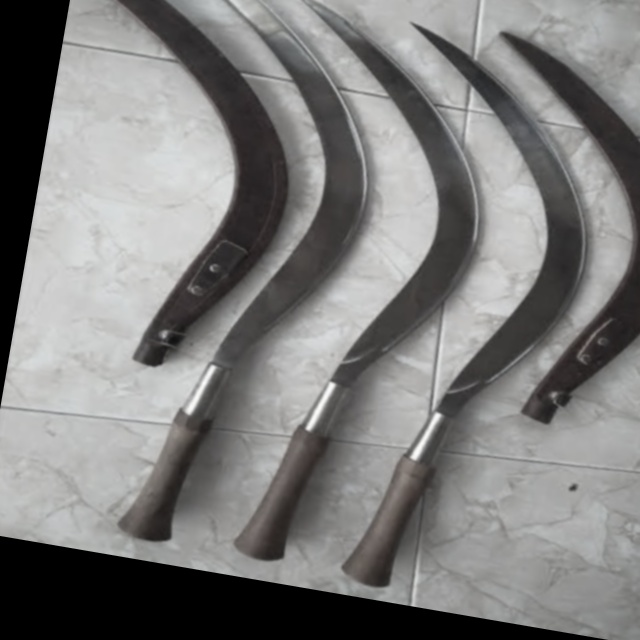Sharp-Object: (35, 0, 424, 573), (197, 0, 521, 595), (343, 0, 625, 614)
